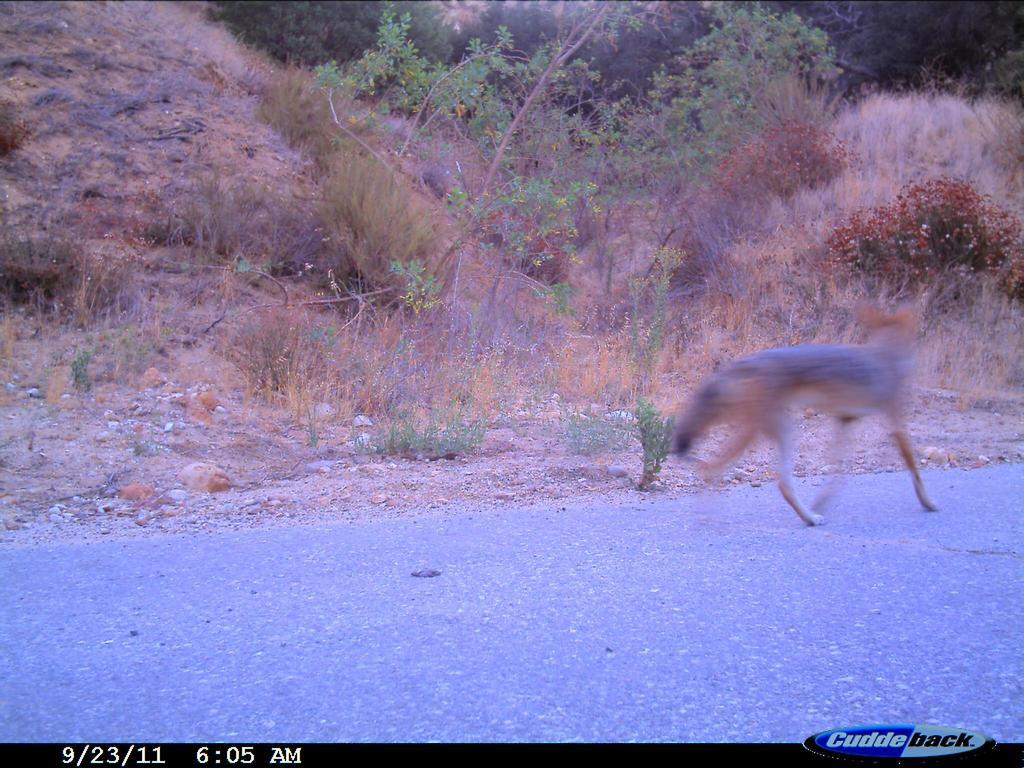coyote: (653, 297, 948, 542)
